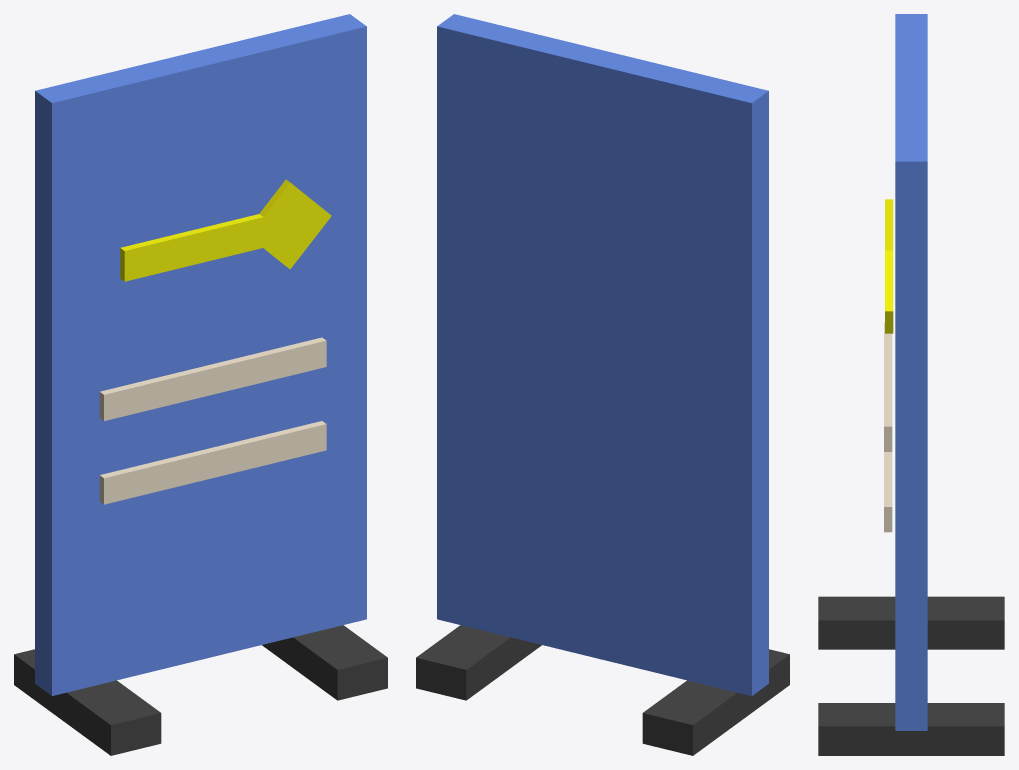
3 views of the same model, side by side, from view 1: azimuth 30°, elevation 25°; view 2: azimuth 150°, elevation 25°; view 3: azimuth 270°, elevation 25° (orthographic). The views are drawn at different scales.
Parts seen in each view (by area): view 1: Panel, Information strip.001, Information strip, Panel foot, Panel foot.001, Direction arrow shaft, Direction arrow head; view 2: Panel, Panel foot, Panel foot.001; view 3: Panel, Panel foot.001, Panel foot, Information strip.001, Direction arrow head, Information strip, Direction arrow shaft.
Boxes of the visible parts, <box> form: Panel: <box>35,14,366,695</box>; Information strip.001: <box>99,337,326,420</box>; Information strip: <box>99,421,326,504</box>; Panel foot: <box>14,649,161,755</box>; Panel foot.001: <box>262,625,387,700</box>; Direction arrow shaft: <box>120,214,271,281</box>; Direction arrow head: <box>249,179,331,269</box>; Panel: <box>437,14,768,695</box>; Panel foot: <box>642,649,789,755</box>; Panel foot.001: <box>416,625,541,700</box>; Panel: <box>895,14,927,730</box>; Panel foot.001: <box>818,703,1004,755</box>; Panel foot: <box>818,596,1004,649</box>; Information strip.001: <box>884,322,892,451</box>; Direction arrow head: <box>885,250,893,333</box>; Information strip: <box>884,452,892,532</box>; Direction arrow shaft: <box>885,199,893,250</box>.
Bounding box in the file's own units: 75 × 143 × 40.
